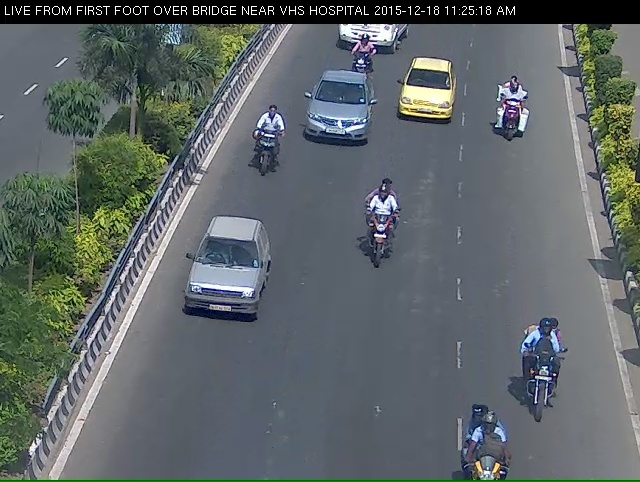Car: (170, 231, 271, 354), (293, 77, 374, 166), (401, 59, 459, 135)
Person: (523, 337, 566, 452), (359, 192, 398, 295), (491, 82, 538, 158), (248, 119, 285, 203), (342, 40, 378, 83)
